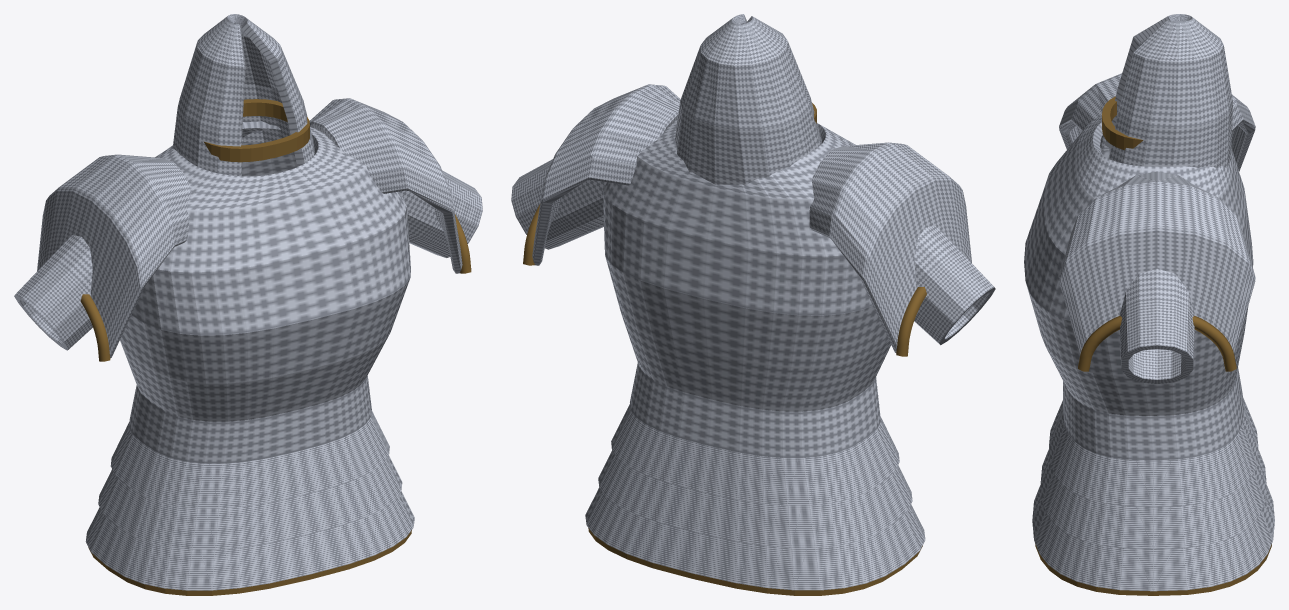
File: chainmail.obj
3 renders of one model, left to right at view 1: azimuth 30°, elevation 25°; view 2: azimuth 150°, elevation 25°; view 3: azimuth 270°, elevation 25°, orthographic. The views are drawn at different scales.
Visible parts, largest first — view 1: A_Torso.001_chainmail_body, K_DrapedMailShoulder.001_chainmail_body, D_Skirt2.001_chainmail_body, H_Coif.001_chainmail_body, D_Skirt0.001_chainmail_body, D_Skirt1.001_chainmail_body, F_Sleeve.001_chainmail_body, B_NeckTrim.001_chainmail_trim, B_HemTrim.001_chainmail_trim, K_WeightedCuff.001_chainmail_trim; view 2: A_Torso.001_chainmail_body, K_DrapedMailShoulder.001_chainmail_body, H_Coif.001_chainmail_body, D_Skirt2.001_chainmail_body, D_Skirt0.001_chainmail_body, D_Skirt1.001_chainmail_body, F_Sleeve.001_chainmail_body, B_HemTrim.001_chainmail_trim, K_WeightedCuff.001_chainmail_trim; view 3: A_Torso.001_chainmail_body, K_DrapedMailShoulder.001_chainmail_body, H_Coif.001_chainmail_body, D_Skirt2.001_chainmail_body, D_Skirt0.001_chainmail_body, D_Skirt1.001_chainmail_body, F_Sleeve.001_chainmail_body, K_WeightedCuff.001_chainmail_trim, B_HemTrim.001_chainmail_trim, B_NeckTrim.001_chainmail_trim.
Boxes of the visible parts, bbox=[...] form: A_Torso.001_chainmail_body: bbox=[120, 121, 410, 463]; K_DrapedMailShoulder.001_chainmail_body: bbox=[37, 98, 462, 358]; D_Skirt2.001_chainmail_body: bbox=[85, 491, 414, 590]; H_Coif.001_chainmail_body: bbox=[172, 14, 314, 176]; D_Skirt0.001_chainmail_body: bbox=[110, 410, 389, 508]; D_Skirt1.001_chainmail_body: bbox=[98, 455, 402, 549]; F_Sleeve.001_chainmail_body: bbox=[14, 170, 482, 350]; B_NeckTrim.001_chainmail_trim: bbox=[204, 99, 309, 162]; B_HemTrim.001_chainmail_trim: bbox=[88, 530, 411, 595]; K_WeightedCuff.001_chainmail_trim: bbox=[80, 214, 471, 361]; A_Torso.001_chainmail_body: bbox=[603, 119, 890, 457]; K_DrapedMailShoulder.001_chainmail_body: bbox=[532, 84, 971, 352]; H_Coif.001_chainmail_body: bbox=[675, 14, 821, 185]; D_Skirt2.001_chainmail_body: bbox=[585, 487, 925, 590]; D_Skirt0.001_chainmail_body: bbox=[611, 404, 899, 505]; D_Skirt1.001_chainmail_body: bbox=[598, 451, 912, 547]; F_Sleeve.001_chainmail_body: bbox=[511, 159, 995, 345]; B_HemTrim.001_chainmail_trim: bbox=[588, 528, 922, 595]; K_WeightedCuff.001_chainmail_trim: bbox=[523, 204, 926, 356]; A_Torso.001_chainmail_body: bbox=[1024, 114, 1253, 460]; K_DrapedMailShoulder.001_chainmail_body: bbox=[1059, 73, 1255, 353]; H_Coif.001_chainmail_body: bbox=[1105, 14, 1232, 167]; D_Skirt2.001_chainmail_body: bbox=[1032, 485, 1274, 591]; D_Skirt0.001_chainmail_body: bbox=[1049, 397, 1258, 506]; D_Skirt1.001_chainmail_body: bbox=[1040, 449, 1266, 548]; F_Sleeve.001_chainmail_body: bbox=[1119, 268, 1194, 383]; K_WeightedCuff.001_chainmail_trim: bbox=[1078, 315, 1236, 371]; B_HemTrim.001_chainmail_trim: bbox=[1035, 544, 1271, 595]; B_NeckTrim.001_chainmail_trim: bbox=[1102, 96, 1143, 150].
Bounding box in the file's own units: 2.84 × 3.04 × 1.36.
2 materials, 1 textured.
